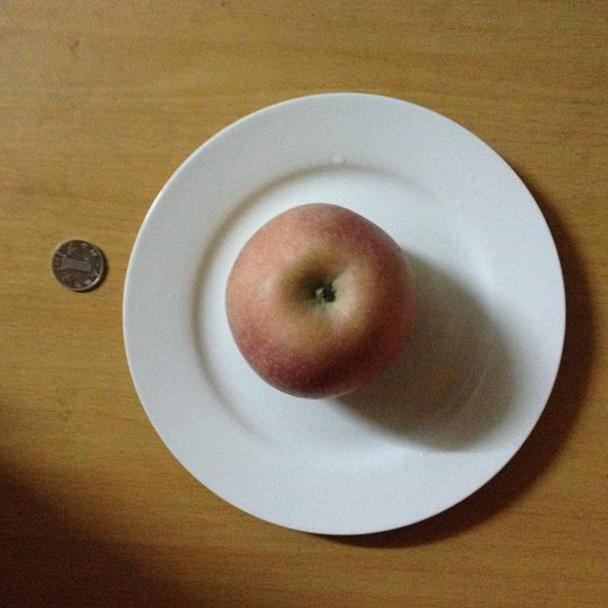apple: (227, 202, 418, 400)
